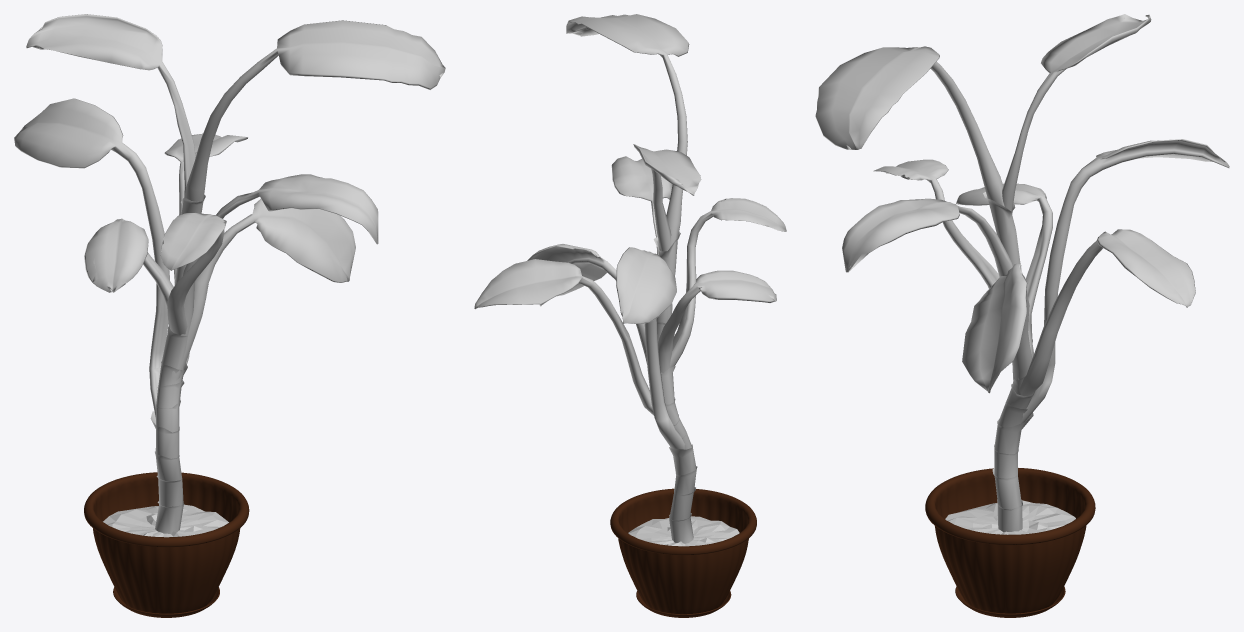
File: plant.obj
The picture shows the model from 3 angles, left to right: view 1: azimuth 30°, elevation 25°; view 2: azimuth 150°, elevation 25°; view 3: azimuth 270°, elevation 25°; orthographic projection. The views are drawn at different scales.
Visible parts, largest first — view 1: Plant_Mesh.001, Flowerpot_Cylinder.001, Terrain_Cylinder; view 2: Plant_Mesh.001, Flowerpot_Cylinder.001, Terrain_Cylinder; view 3: Plant_Mesh.001, Flowerpot_Cylinder.001, Terrain_Cylinder.
Part boxes in pixels (x1=…): Plant_Mesh.001: x1=14, y1=14, x2=445, y2=533; Flowerpot_Cylinder.001: x1=84, y1=472, x2=249, y2=617; Terrain_Cylinder: x1=103, y1=504, x2=228, y2=537; Plant_Mesh.001: x1=474, y1=14, x2=786, y2=543; Flowerpot_Cylinder.001: x1=610, y1=488, x2=756, y2=617; Terrain_Cylinder: x1=628, y1=516, x2=739, y2=546; Plant_Mesh.001: x1=815, y1=14, x2=1229, y2=532; Flowerpot_Cylinder.001: x1=925, y1=468, x2=1095, y2=617; Terrain_Cylinder: x1=945, y1=500, x2=1075, y2=534.
Bounding box in the file's own units: 0.7227 × 1.36 × 0.8571.
